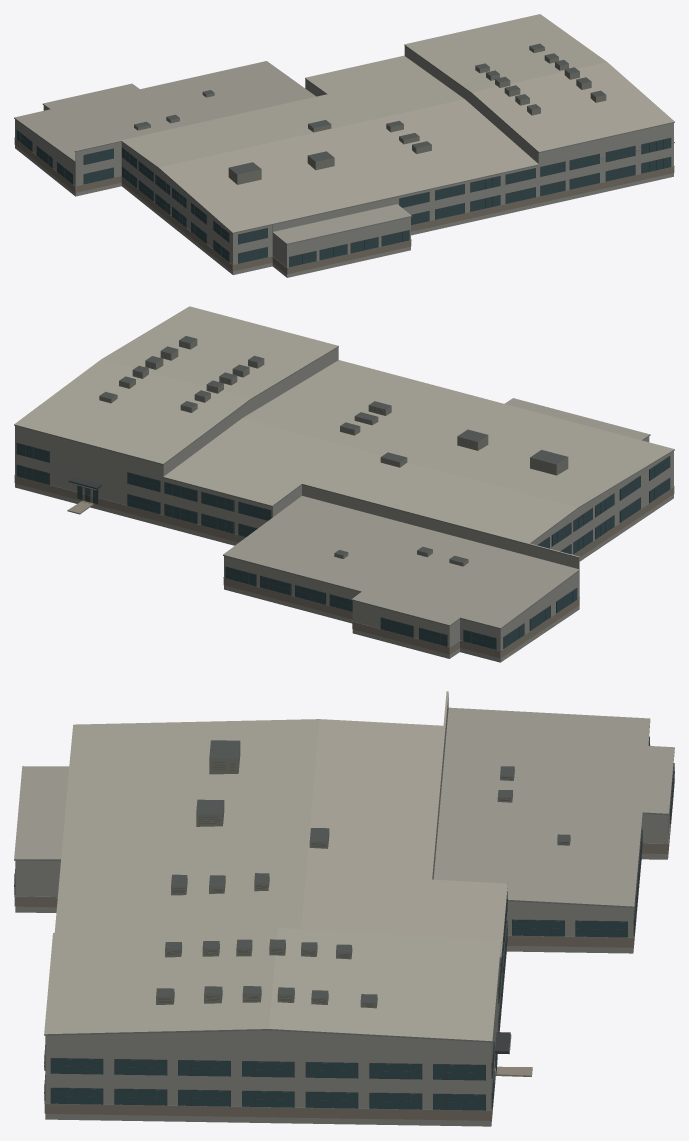
The model's file is site.glb.
The picture shows the model from 3 angles, top to bottom: view 1: azimuth 30°, elevation 25°; view 2: azimuth 150°, elevation 25°; view 3: azimuth 270°, elevation 25°; orthographic projection. The views are drawn at different scales.
Visible parts, largest first — view 1: roof-8bd064b7; view 2: roof-8bd064b7; view 3: roof-8bd064b7.
Part boxes in pixels (x1,y1,x2,y2): roof-8bd064b7: (14,14,674,277); roof-8bd064b7: (14,306,674,662); roof-8bd064b7: (14,691,674,1126).
Size of the model in its own units: 77.82 by 10.25 by 59.65.
